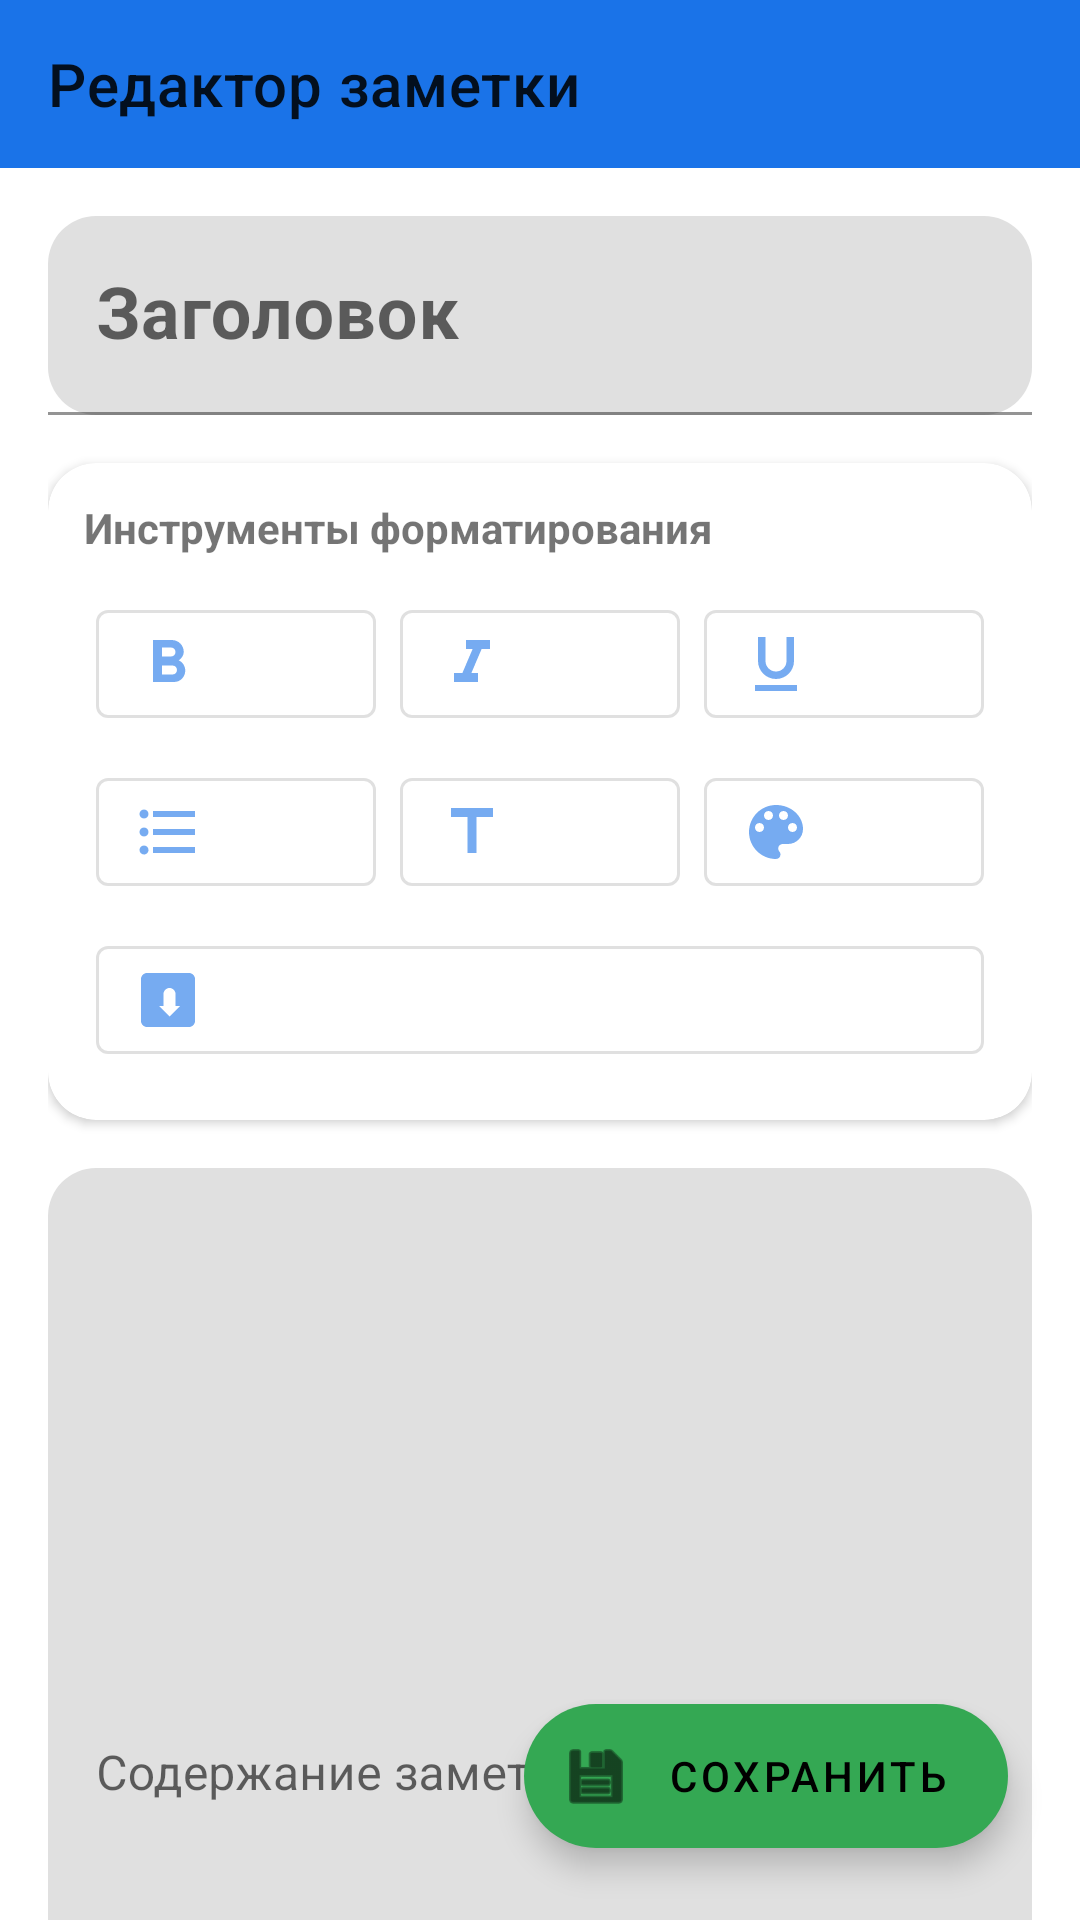

Icons on this 1080*1920 Android screen, each with the point to tap as [x,y]:
heading: [540,832]
italic: [540,664]
list: [236,832]
underline: [844,664]
